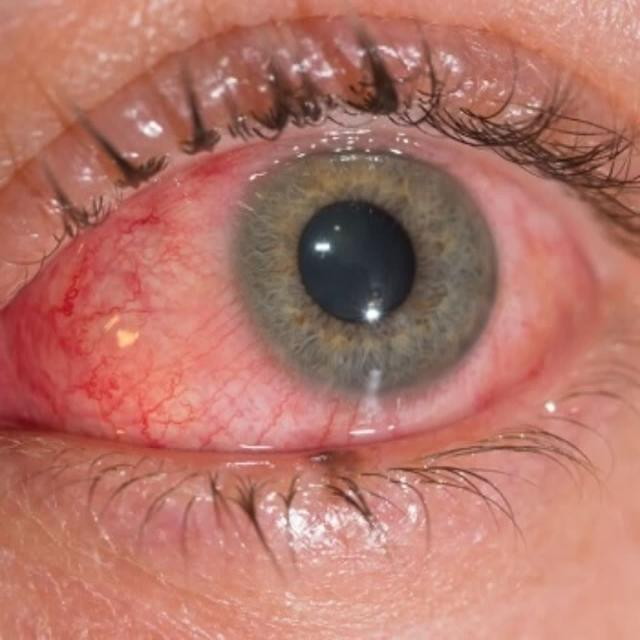Conjunctivitis: (0, 102, 636, 485)
